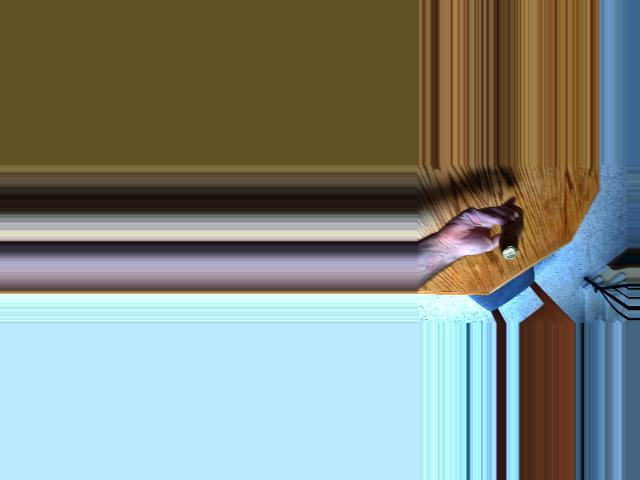sweet_potato: (506, 204, 524, 253)
